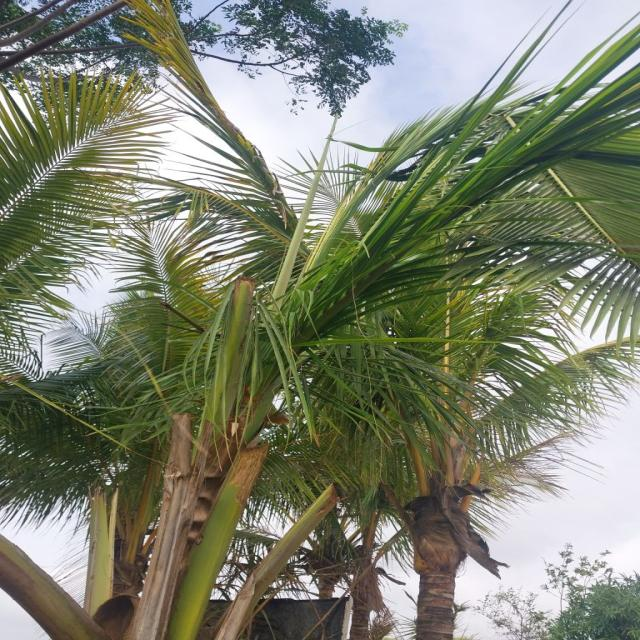bud rot: (0, 280, 265, 640), (213, 489, 335, 640)
